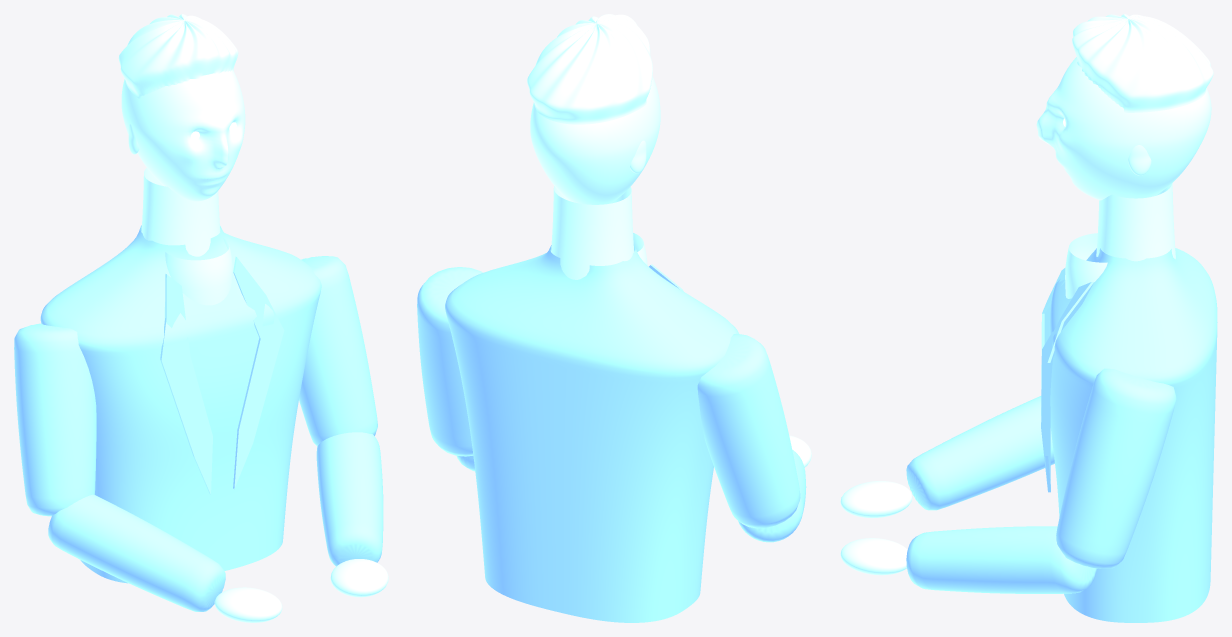
The model's file is david.glb.
The picture shows the model from 3 angles, left to right: view 1: azimuth 30°, elevation 25°; view 2: azimuth 150°, elevation 25°; view 3: azimuth 270°, elevation 25°; orthographic projection. The views are drawn at different scales.
Parts seen in each view (by area): view 1: Jacket, UpperArmL, HeadMesh, ForearmL, UpperArmR, ForearmR, Hair, LapelL, Neck, LapelR, Shirt, HandL (+1 smaller); view 2: Jacket, UpperArmL, Hair, HeadMesh, UpperArmR, Neck, ForearmL; view 3: Jacket, UpperArmR, HeadMesh, ForearmR, Hair, ForearmL, Neck, HandL, HandR, LapelR, Shirt, EarR (+1 smaller).
Boxes of the visible parts, box(x1,y1,x2,y2) form: Jacket: box(40, 225, 321, 583); UpperArmL: box(14, 323, 96, 516); HeadMesh: box(121, 70, 245, 201); ForearmL: box(48, 494, 225, 611); UpperArmR: box(299, 256, 377, 446); ForearmR: box(316, 432, 383, 566); Hair: box(118, 14, 238, 99); LapelL: box(160, 274, 212, 494); Neck: box(141, 168, 220, 256); LapelR: box(233, 256, 284, 488); Shirt: box(165, 238, 232, 305); HandL: box(214, 587, 282, 622); Jacket: box(445, 244, 738, 622); UpperArmL: box(697, 333, 800, 528); Hair: box(527, 14, 652, 124); HeadMesh: box(530, 76, 660, 204); UpperArmR: box(417, 267, 482, 456); Neck: box(551, 186, 634, 279); ForearmL: box(738, 450, 806, 542); Jacket: box(1049, 248, 1217, 622); UpperArmR: box(1056, 368, 1176, 568); HeadMesh: box(1036, 57, 1211, 200); ForearmR: box(906, 526, 1096, 593); Hair: box(1072, 14, 1213, 112); ForearmL: box(906, 396, 1054, 510); Neck: box(1096, 183, 1175, 261); HandL: box(840, 481, 912, 518); HandR: box(840, 538, 907, 575); LapelR: box(1041, 282, 1094, 492); Shirt: box(1065, 233, 1107, 298); EarR: box(1128, 145, 1151, 175).
Bounding box in the file's own units: 0.586 × 0.8653 × 0.5301.
